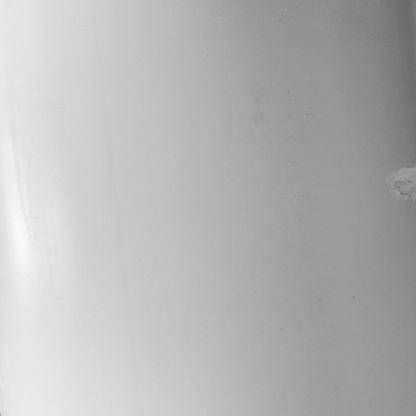sunshang: (388, 162, 416, 205)
